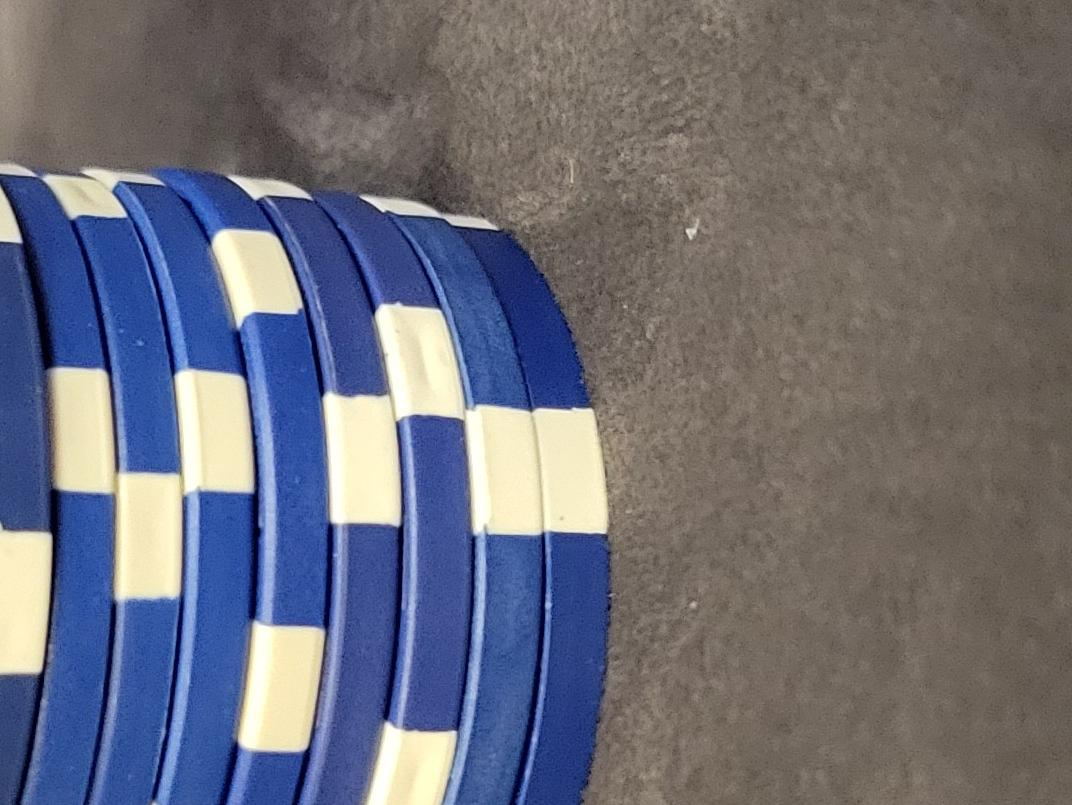Chip: (1, 290, 410, 805)
